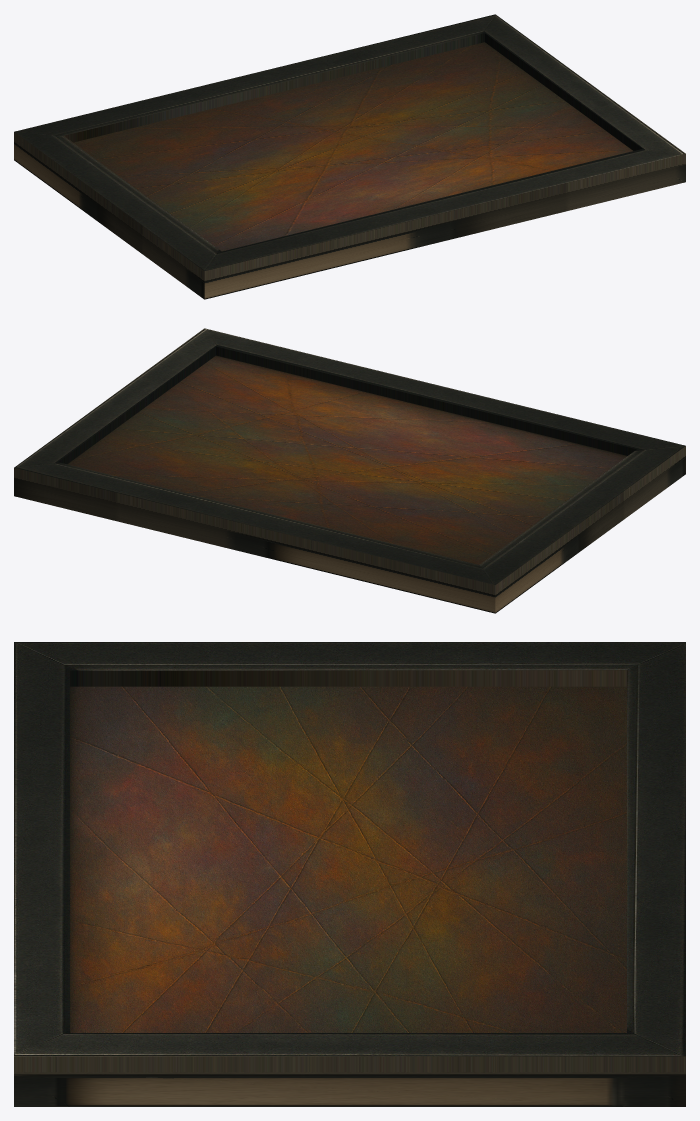
The model's file is yetişkinanı2.fbx.
The picture shows the model from 3 angles, top to bottom: view 1: azimuth 30°, elevation 25°; view 2: azimuth 150°, elevation 25°; view 3: azimuth 270°, elevation 25°; orthographic projection. The views are drawn at different scales.
Parts seen in each view (by area): view 1: Yetişkin Anı 2; view 2: Yetişkin Anı 2; view 3: Yetişkin Anı 2.
Part boxes in pixels (x1,y1,x2,y2): Yetişkin Anı 2: (14,14,685,299); Yetişkin Anı 2: (14,328,685,613); Yetişkin Anı 2: (14,642,685,1106).
Size of the model in its own units: 395 by 22.32 by 270.
